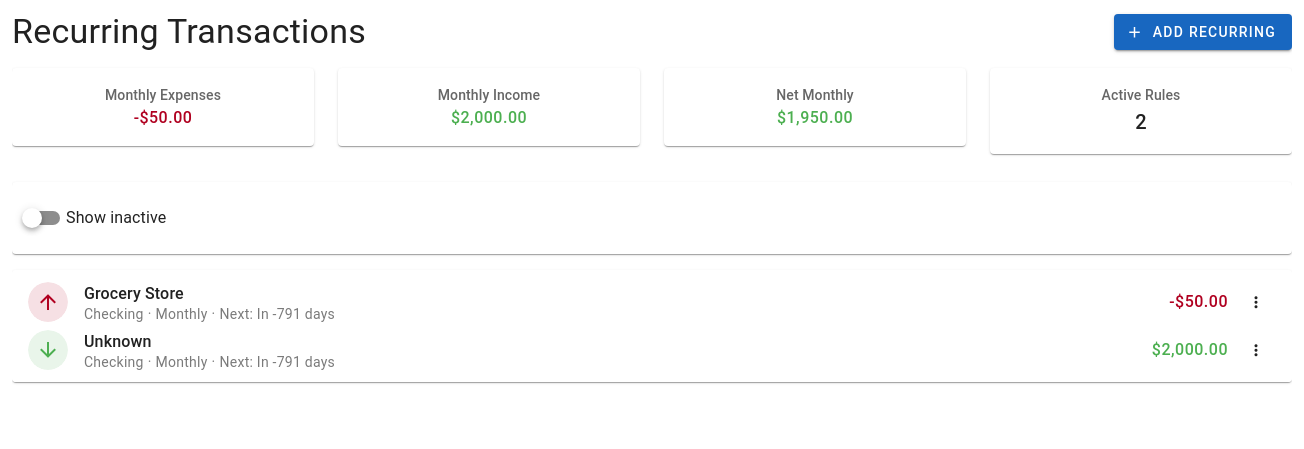
Test: RecurringView › shows Paused chip on inactive recurring when show inactive is enabled
Toggle "Show inactive" switch
Click the checkbox labelled "Show inactive": (116, 218) x1=66 y1=208 x2=166 y2=227
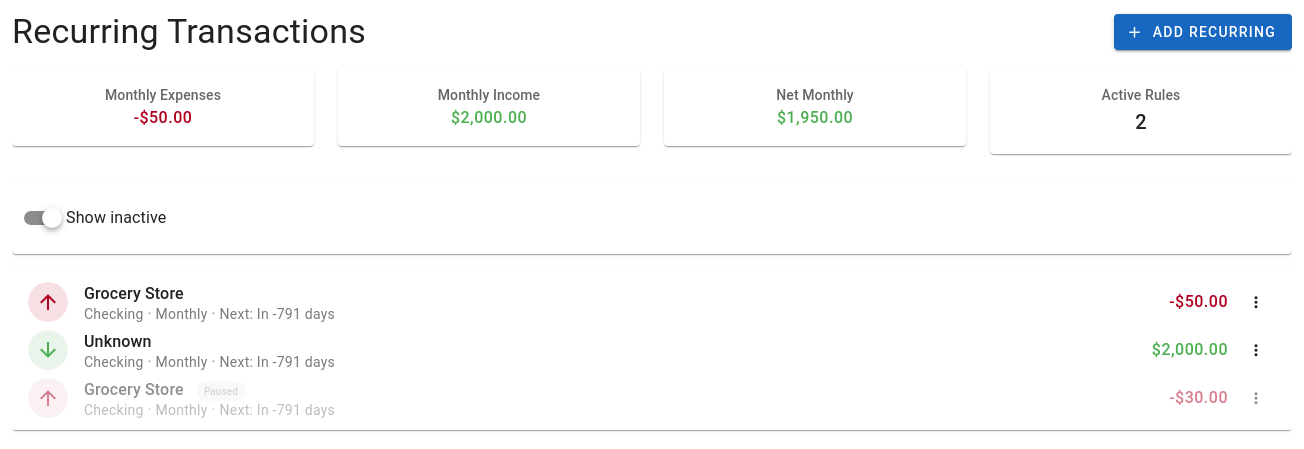
Result: the text "Paused" is shown at x1=204 y1=384 x2=238 y2=399
